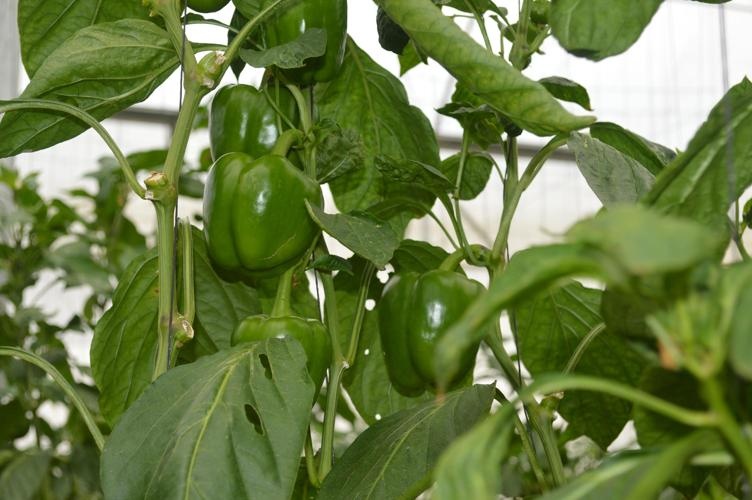BellPepper: (190, 155, 323, 267), (369, 267, 482, 395), (227, 305, 337, 416), (200, 85, 293, 160)
